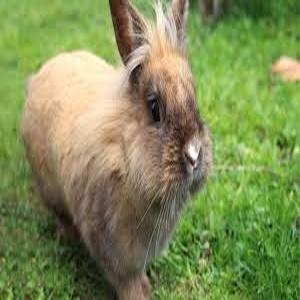rabbit: (23, 0, 204, 300)
